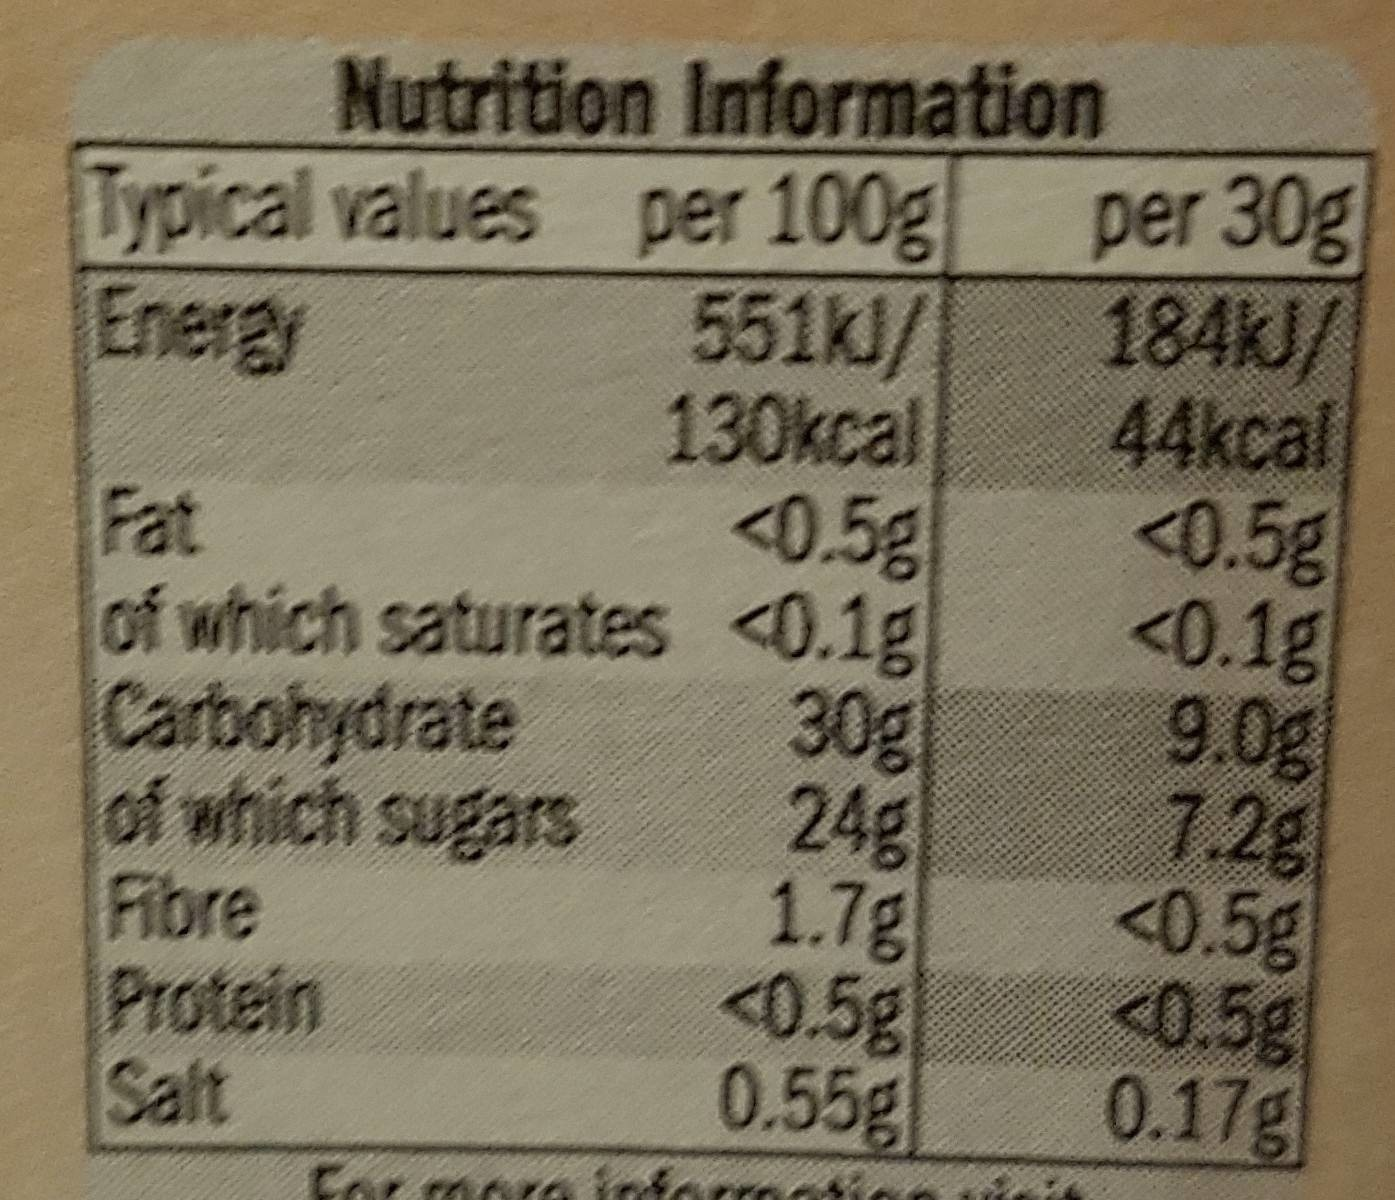column: (81, 160, 623, 1151), (643, 175, 934, 1148), (1079, 162, 1340, 1156)
table: (60, 38, 1389, 1167)
